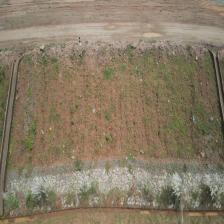rock_toe: (4, 160, 224, 216)
slope_drain: (0, 57, 22, 215), (214, 51, 224, 125)
